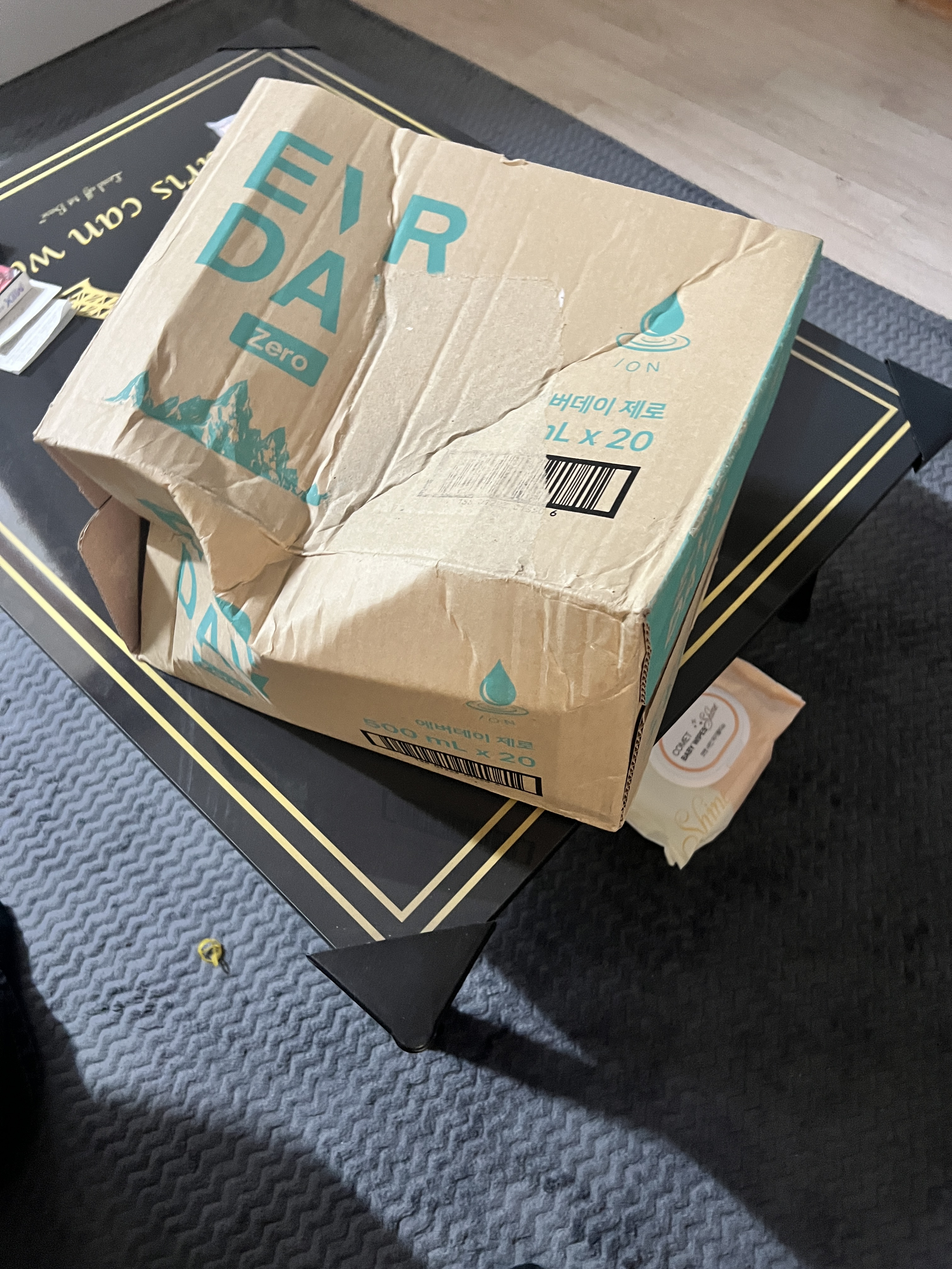damaged package: (0, 177, 610, 816)
